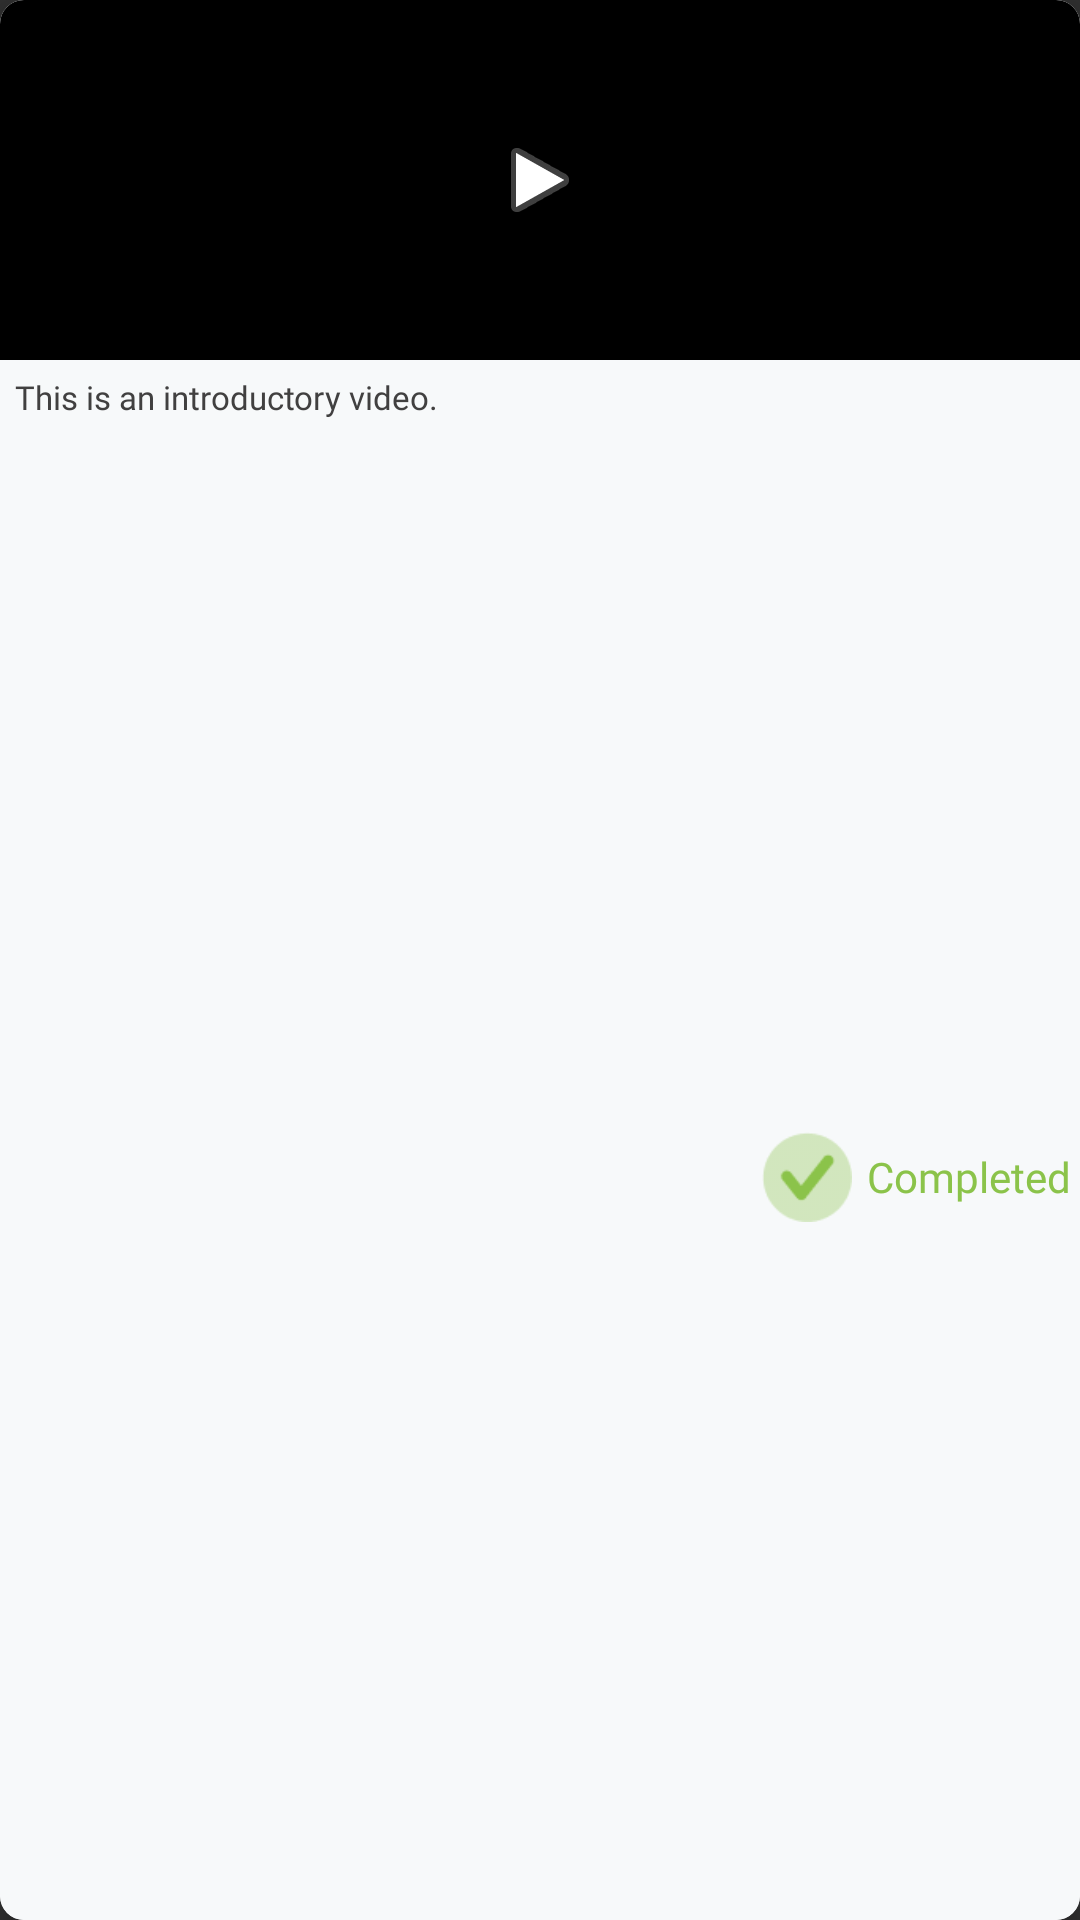

Where to tap for icons on this 1080px x 1920px app screen, as (x,y):
play: (540,180)
